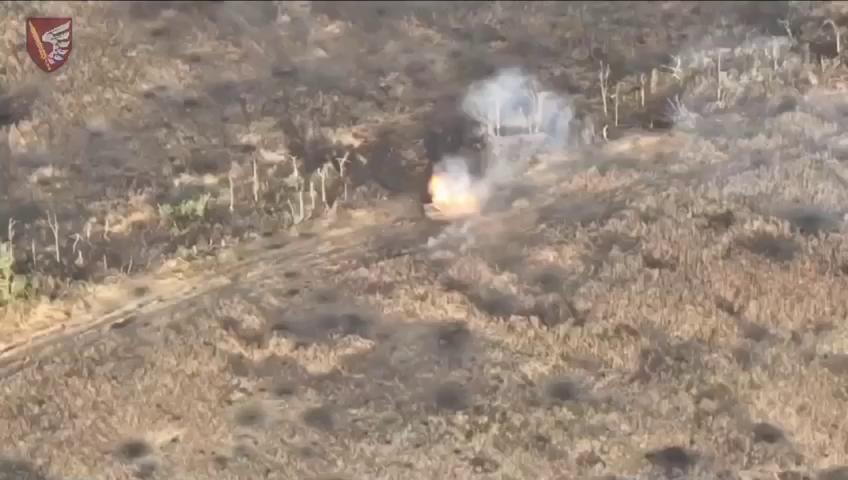tank: (420, 198, 485, 226)
